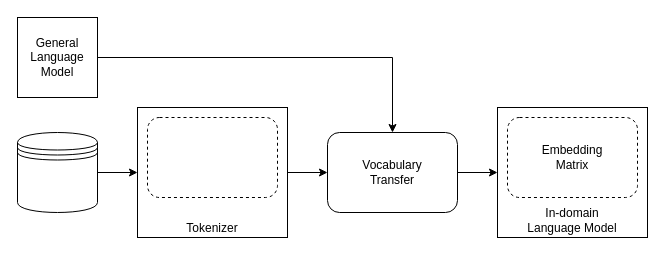
The diagram is 665 pixels wide and 255 high, and some of its shapes have lost their labels. The box of each missing label's shape, as (x1, y1, x2, y2) in pixels:
In-domain Data: (16, 132, 98, 212)
Vocabulary: (146, 116, 278, 198)
